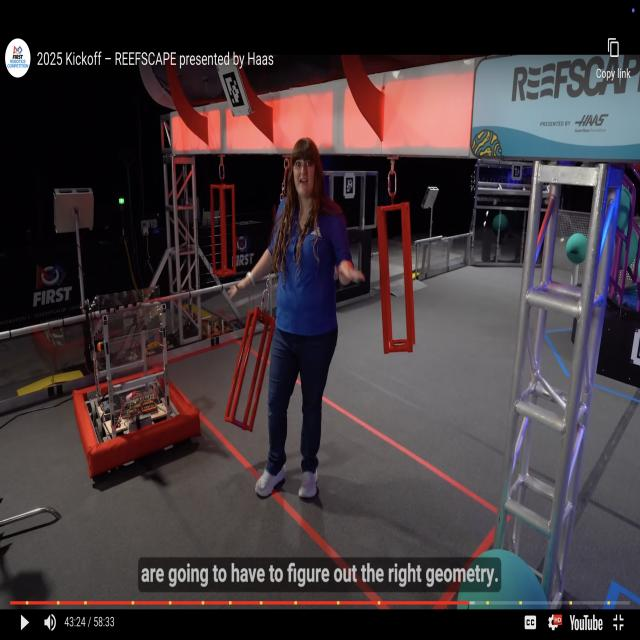algae: (455, 551, 548, 609), (615, 218, 640, 271), (605, 184, 631, 231), (566, 232, 587, 264)
